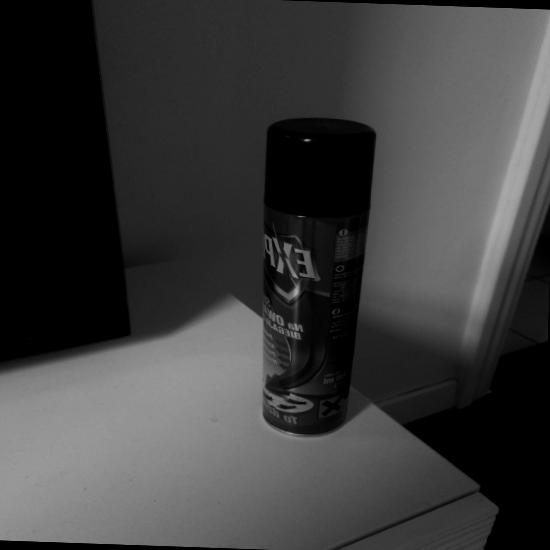Aerosol: (263, 118, 376, 437)
Plastic lid: (264, 118, 376, 217)
